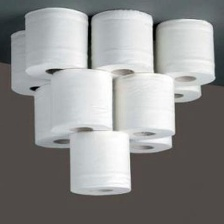tissue: (19, 3, 92, 81), (87, 5, 160, 83), (63, 124, 136, 202), (46, 64, 118, 139), (149, 15, 220, 89), (110, 68, 179, 144), (5, 25, 69, 100), (29, 81, 86, 154), (124, 129, 178, 158), (153, 79, 206, 107)
